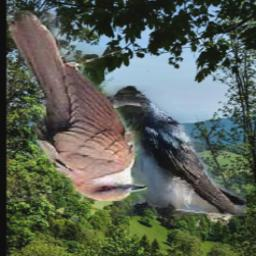Cuckoo: (8, 11, 148, 202)
Swallow: (100, 86, 246, 216)
